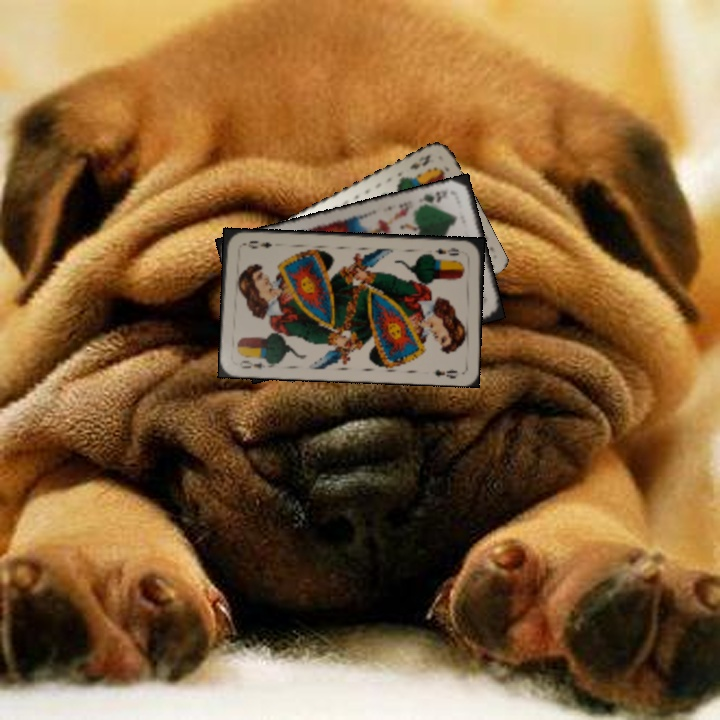EK: (406, 151, 434, 172)
EO: (236, 353, 274, 371), (431, 244, 461, 258)
GK: (415, 186, 450, 209)
